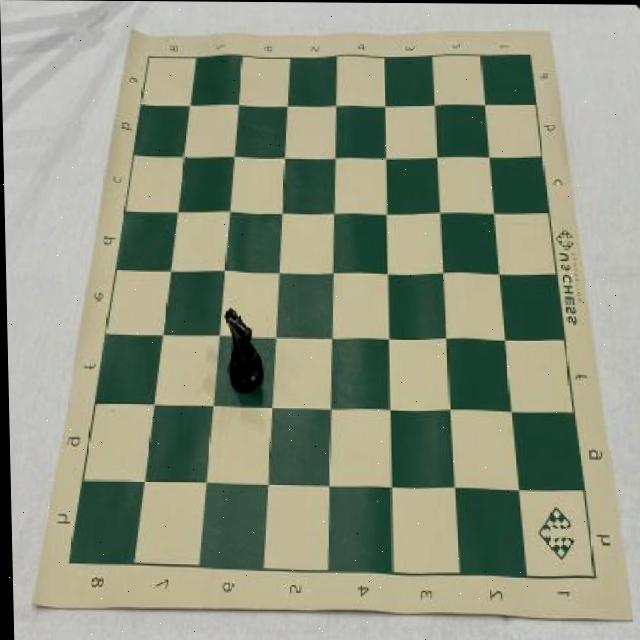black-king: (222, 306, 262, 395)
